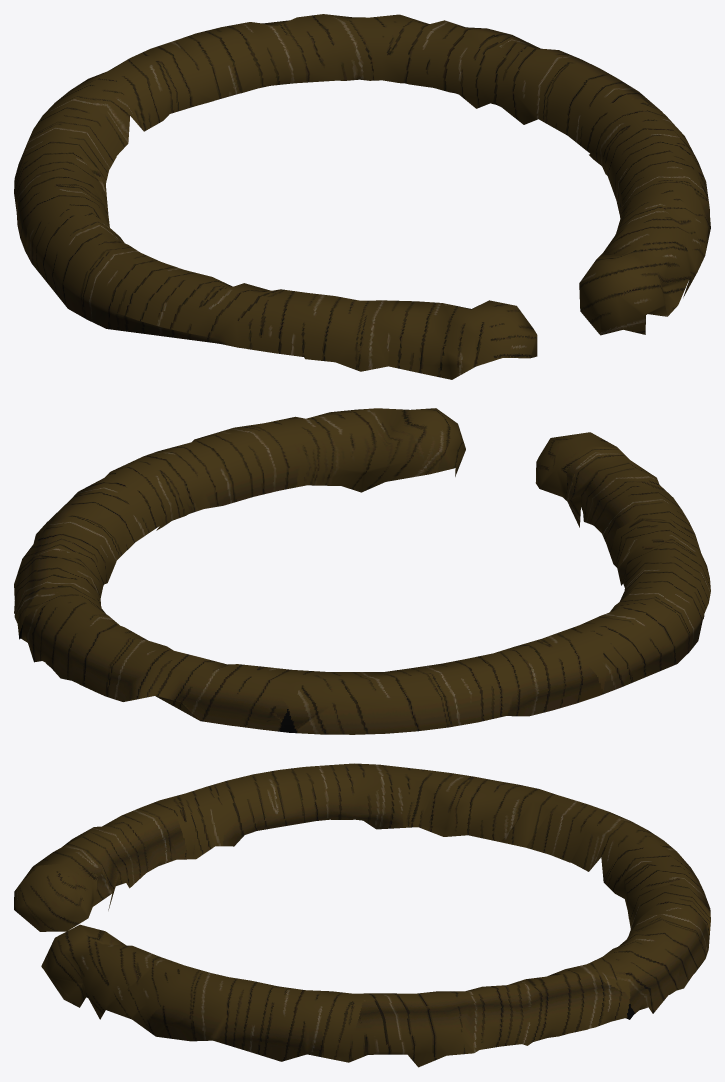
3 renders of one model, top to bottom at view 1: azimuth 30°, elevation 25°; view 2: azimuth 150°, elevation 25°; view 3: azimuth 270°, elevation 25°, orthographic. The views are drawn at different scales.
Parts seen in each view (by area): view 1: mesh_id27; view 2: mesh_id27; view 3: mesh_id27.
Part boxes in pixels (x1,y1,x2,y2): mesh_id27: (14, 14, 710, 379); mesh_id27: (14, 408, 710, 734); mesh_id27: (14, 763, 710, 1067).
Bounding box in the file's own units: 0.5529 × 0.0631 × 0.6045.
Materials: 1 (1 with a texture image).
